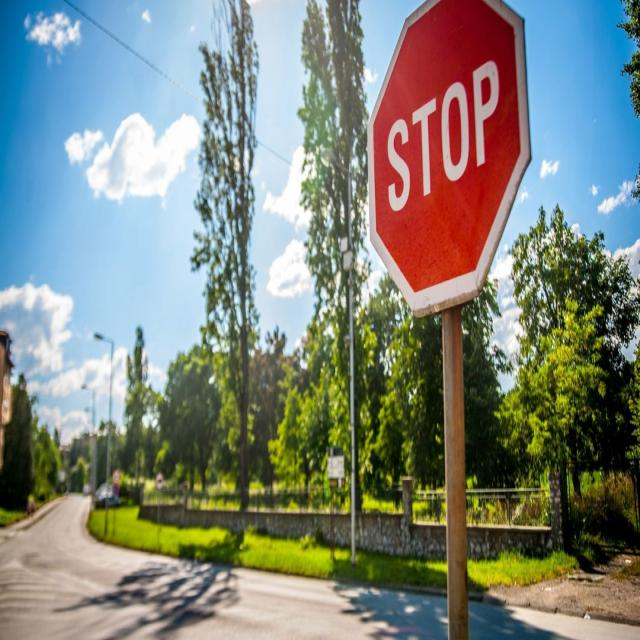Traffic sign: (363, 0, 531, 320)
